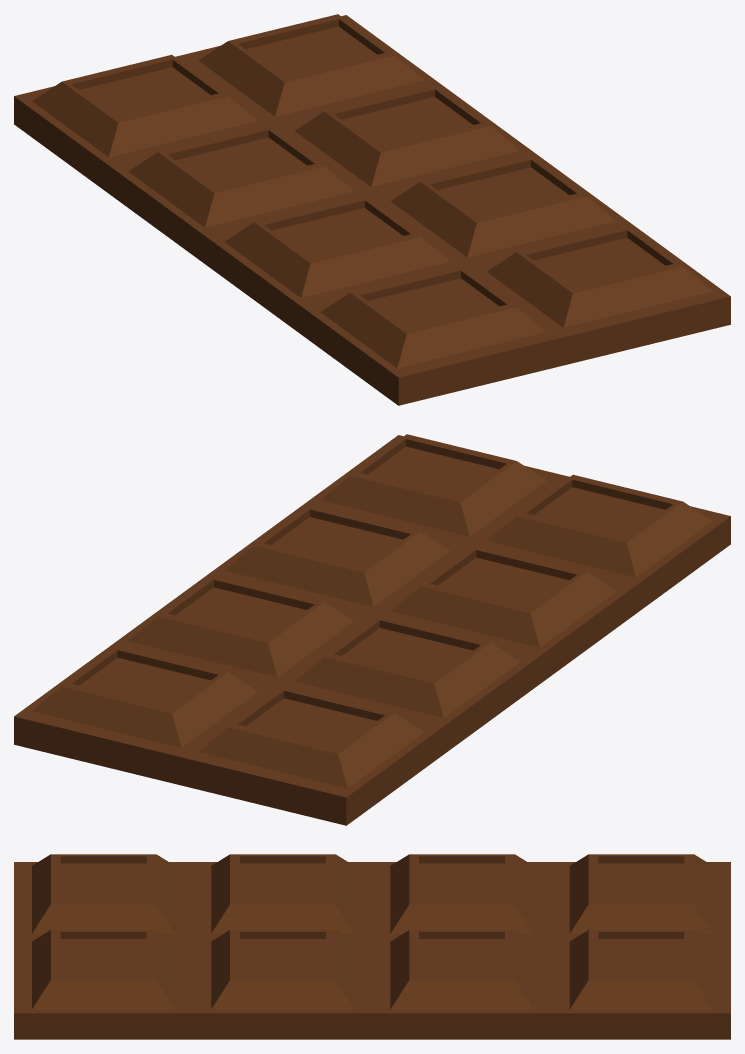
File: NEWchoco.fbx
The picture shows the model from 3 angles, top to bottom: view 1: azimuth 30°, elevation 25°; view 2: azimuth 150°, elevation 25°; view 3: azimuth 270°, elevation 25°; orthographic projection. The views are drawn at different scales.
Visible parts, largest first — view 1: Plane; view 2: Plane; view 3: Plane.
Boxes of the visible parts, x1,y1,x2,y2 form: Plane: (14, 14, 730, 405); Plane: (14, 434, 730, 825); Plane: (14, 854, 730, 1039).
Size of the model in its own units: 397 by 28.75 by 198.
